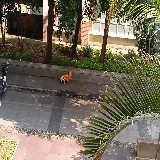fire: (61, 71, 72, 82)
